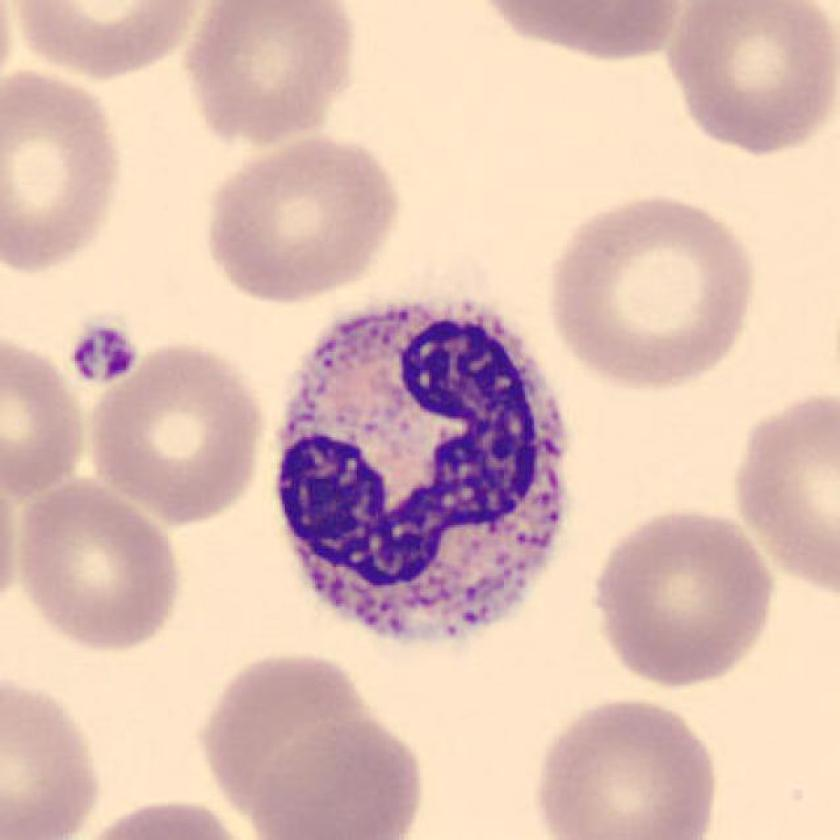neutrophil: (277, 303, 568, 641)
